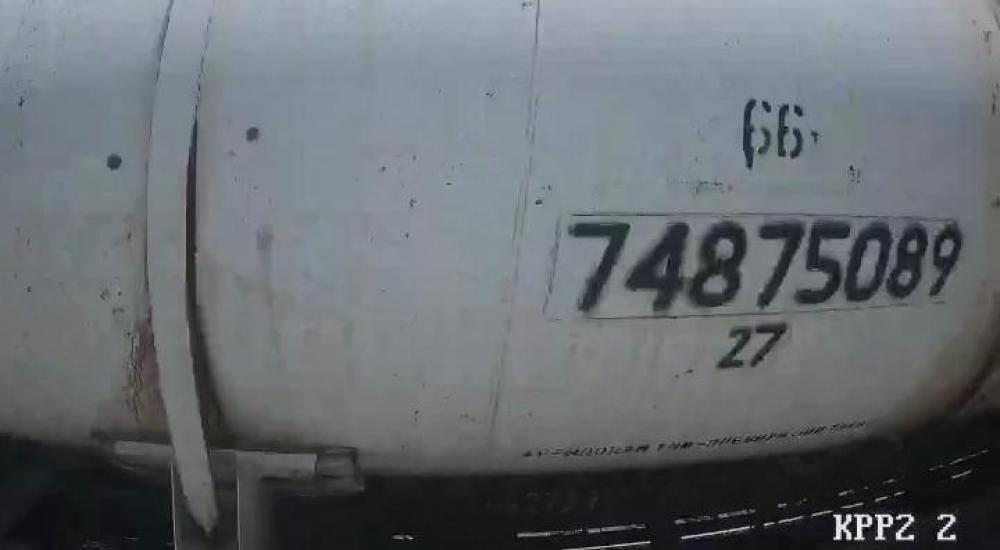Wagon-number: (560, 215, 967, 315)
